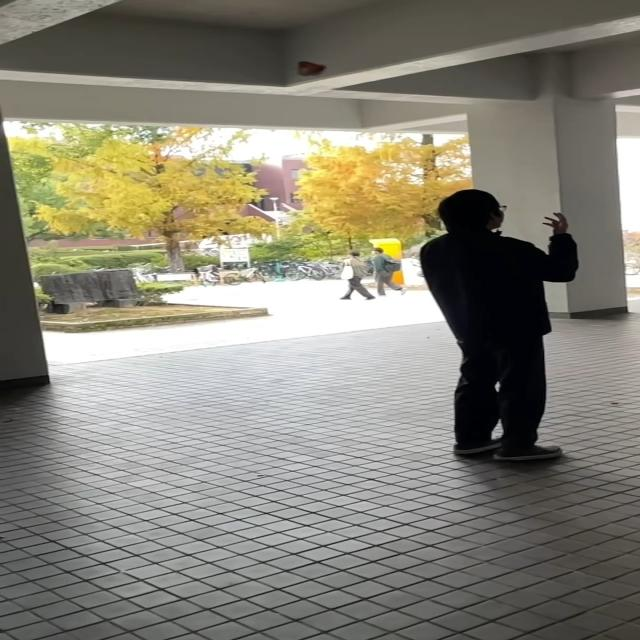paper: (292, 60, 328, 80)
